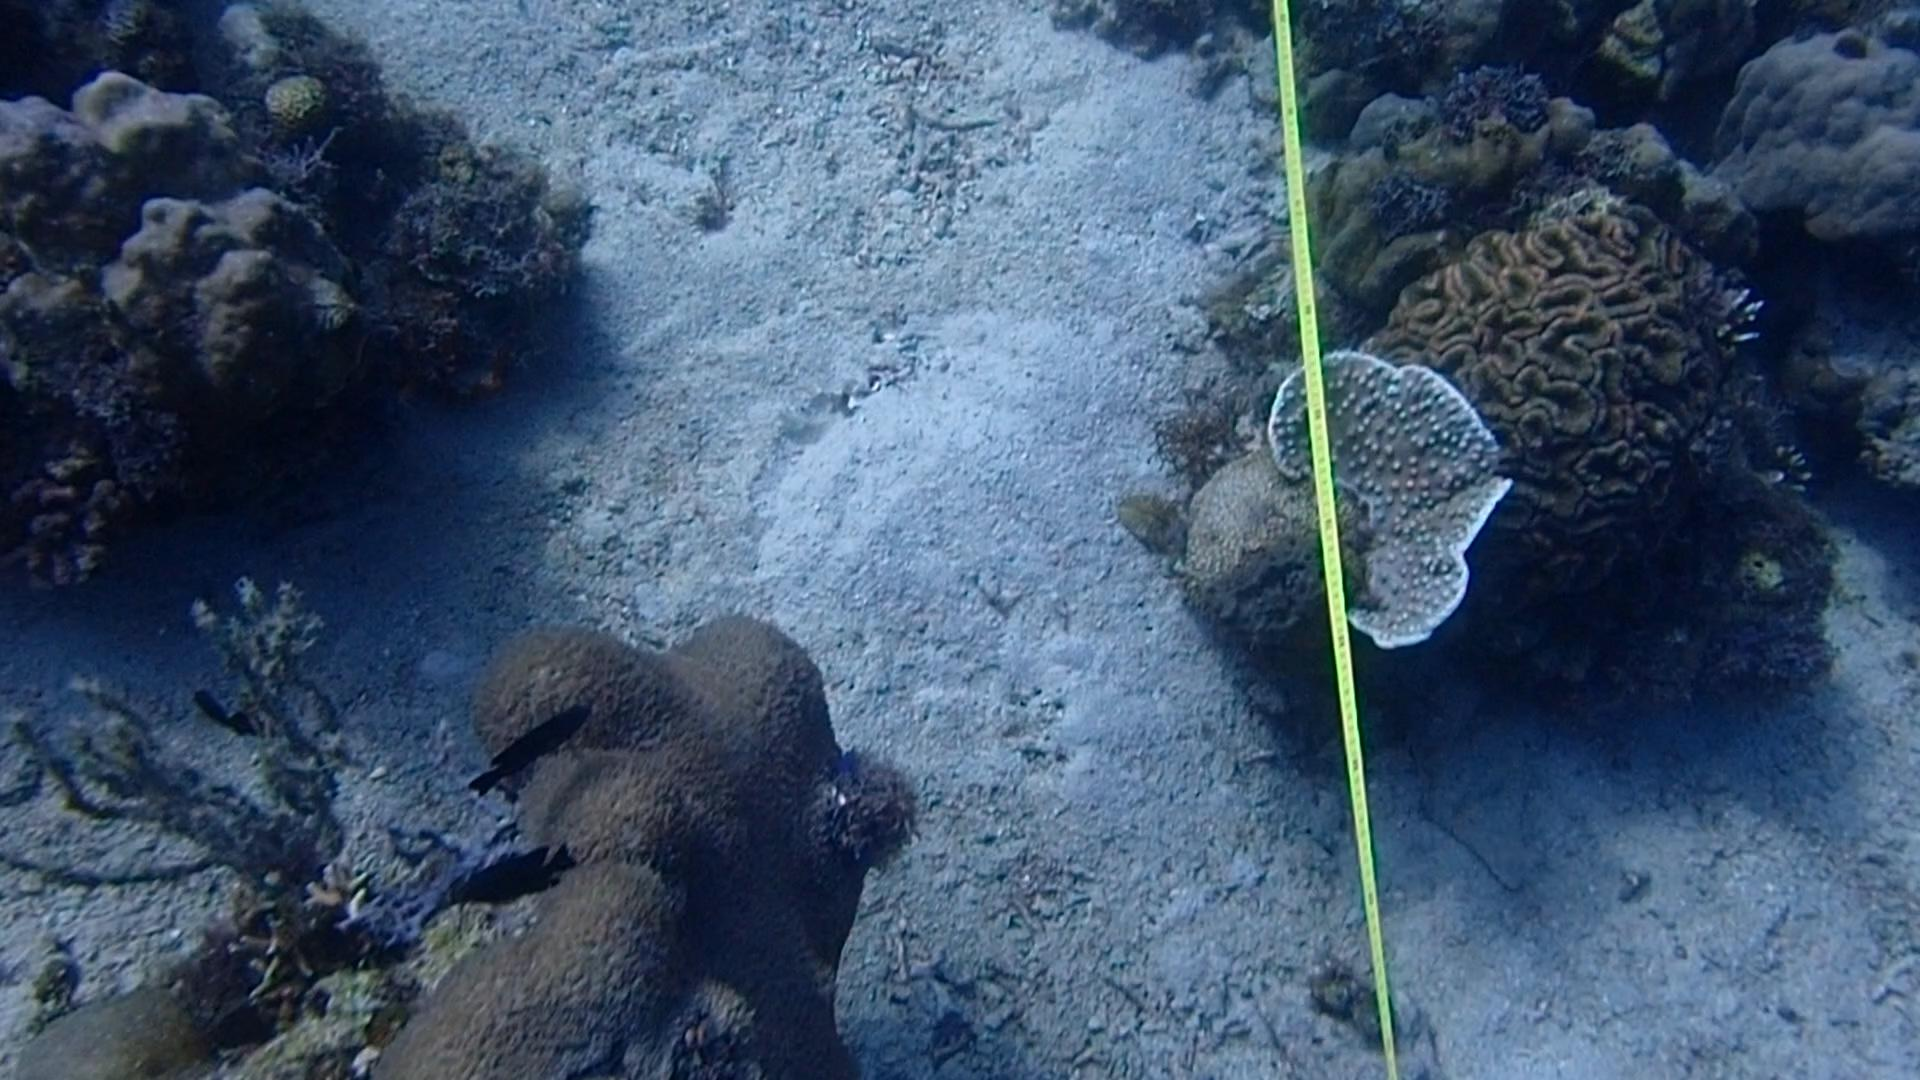Dark Fish: (455, 692, 588, 808), (425, 819, 584, 914), (170, 676, 268, 756)
